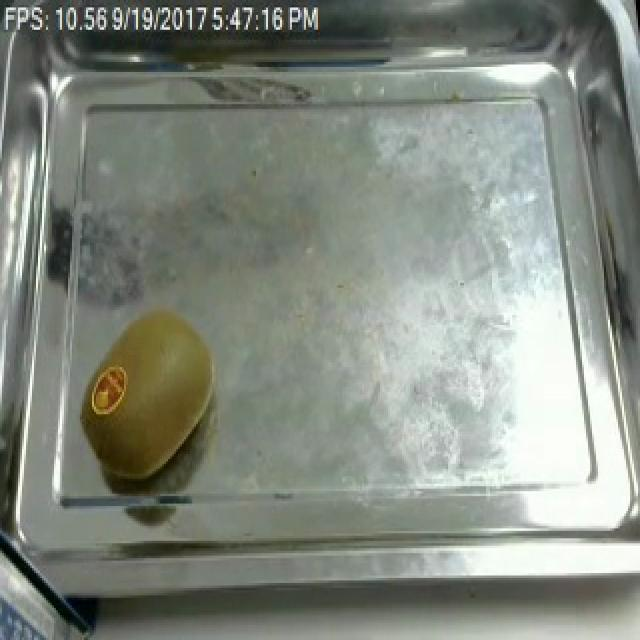Fruit: (84, 303, 224, 491)
